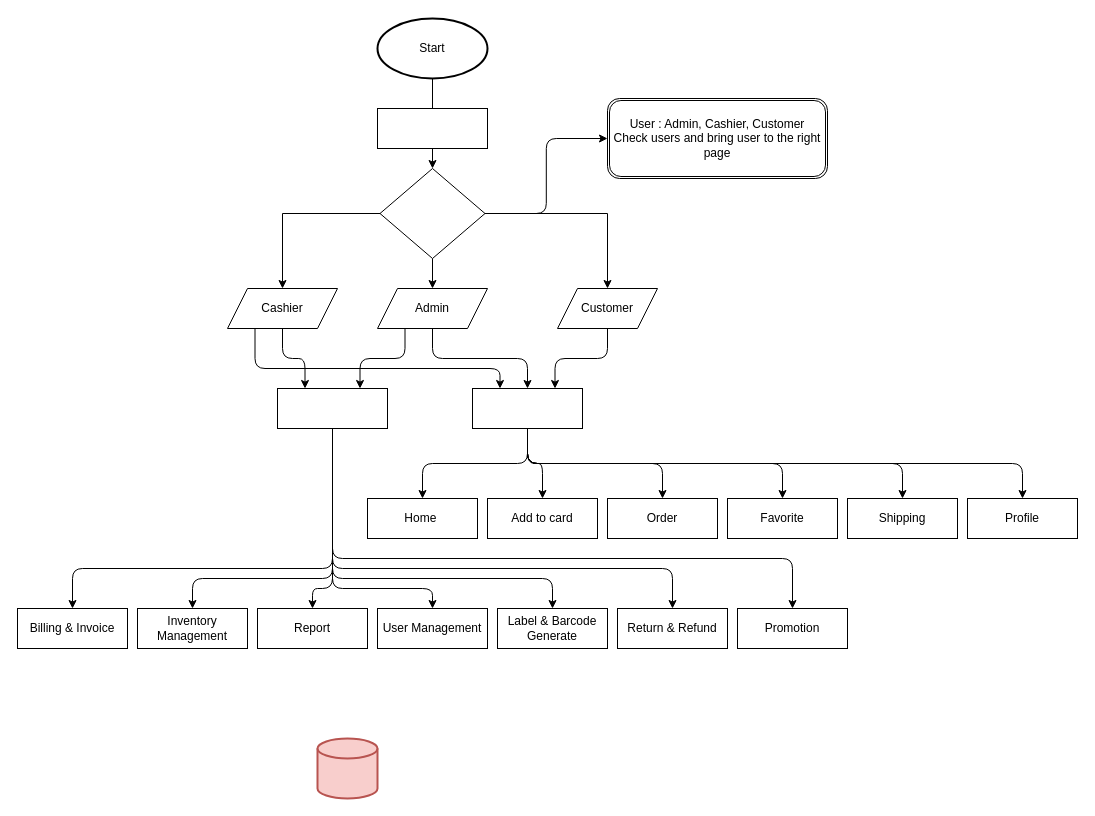
Image size: 1095x816. Some labels were removed from this diagram. Here are the shapes that lost their labels. From the top down, the box of each, then its label:
(376, 108, 488, 148): Login
(379, 168, 485, 258): Authentication
(276, 388, 388, 428): POS
(472, 388, 582, 428): E-Commerce
